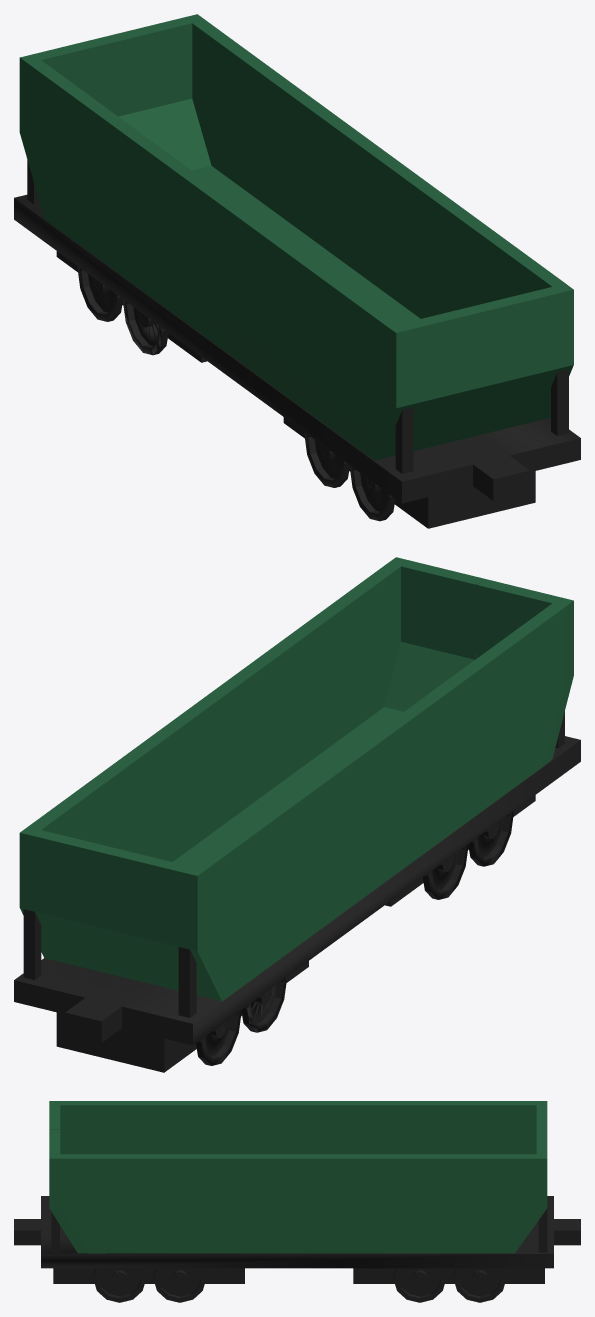
The model's file is cabin one_0330.fbx.
3 renders of one model, top to bottom at view 1: azimuth 30°, elevation 25°; view 2: azimuth 150°, elevation 25°; view 3: azimuth 270°, elevation 25°, orthographic. The views are drawn at different scales.
Visible parts, largest first — view 1: cabin, cabin set, cabin set1, wheel 3, wheel 4, wheel 1, wheel 2, cabin set4, cabin set3; view 2: cabin, cabin set, cabin set2, wheel 3, wheel 2, wheel 1, wheel 4, cabin set6, cabin set5; view 3: cabin, cabin set, wheel 1, wheel 4, wheel 3, wheel 2, cabin set1, cabin set2, cabin set5, cabin set3.
Boxes of the visible parts, x1,y1,x2,y2 form: cabin: (19,14,573,460); cabin set: (14,194,580,503); cabin set1: (283,417,535,528); wheel 3: (123,300,168,355); wheel 4: (77,266,123,321); wheel 1: (350,466,395,521); wheel 2: (304,432,349,487); cabin set4: (395,407,413,473); cabin set3: (551,369,568,435); cabin: (19,557,573,1001); cabin set: (14,736,580,1045); cabin set2: (56,961,308,1072); wheel 3: (241,977,286,1032); wheel 2: (422,844,468,899); wheel 1: (468,811,513,866); wheel 4: (196,1011,241,1065); cabin set6: (178,947,196,1017); cabin set5: (23,909,41,979); cabin: (49,1101,547,1253); cabin set: (14,1196,580,1268); wheel 1: (93,1268,146,1302); wheel 4: (453,1268,506,1302); wheel 3: (393,1268,446,1302); wheel 2: (153,1268,206,1302); cabin set1: (53,1268,244,1283); cabin set2: (353,1268,544,1283); cabin set5: (538,1209,547,1252); cabin set3: (51,1212,59,1252).
Size of the model in its own units: 500 by 618 by 2073.
